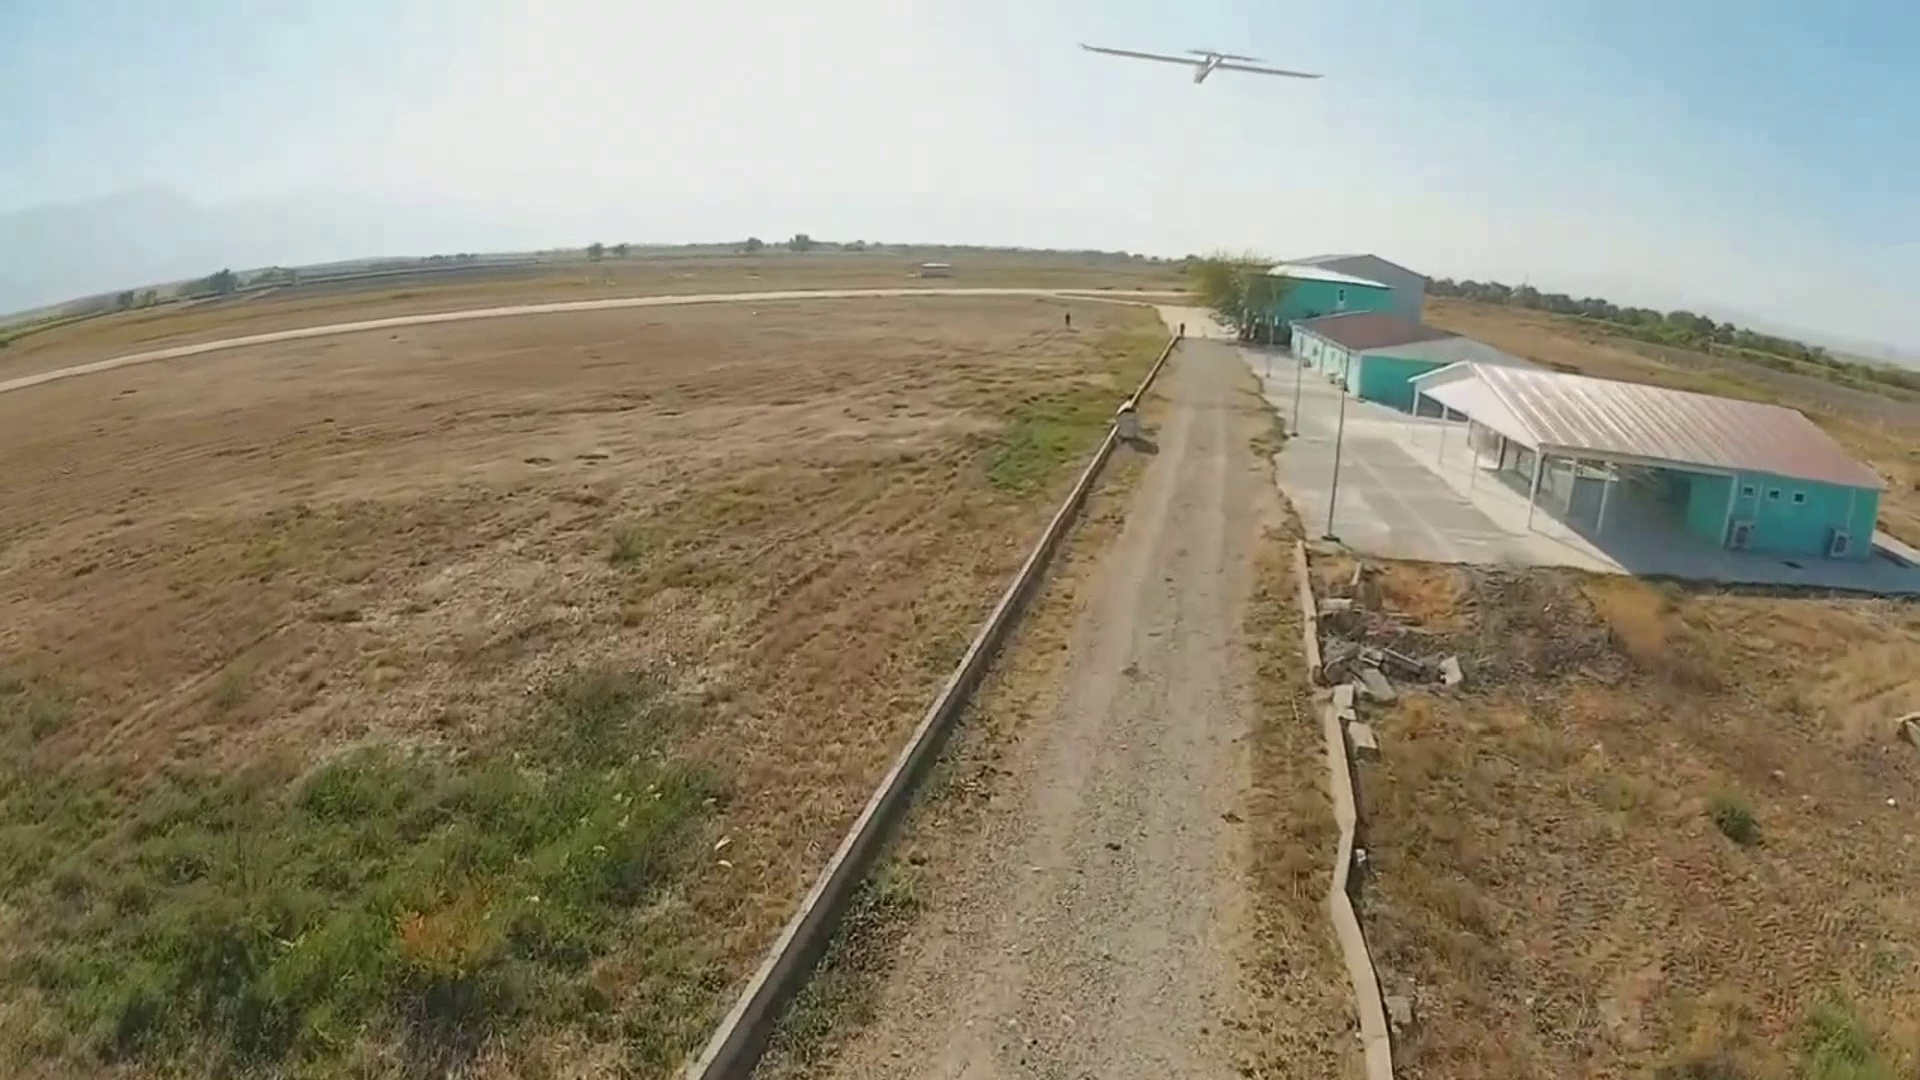airplane: (1076, 38, 1326, 90)
